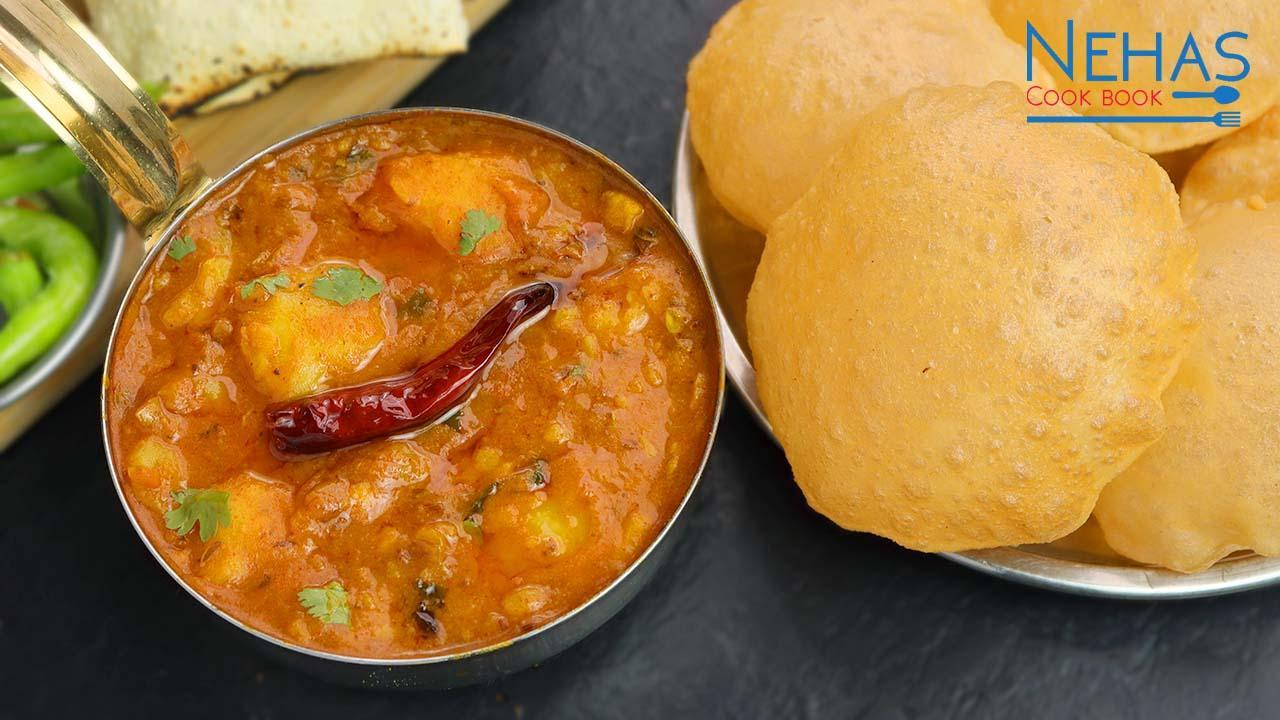puri: (726, 128, 1280, 554)
